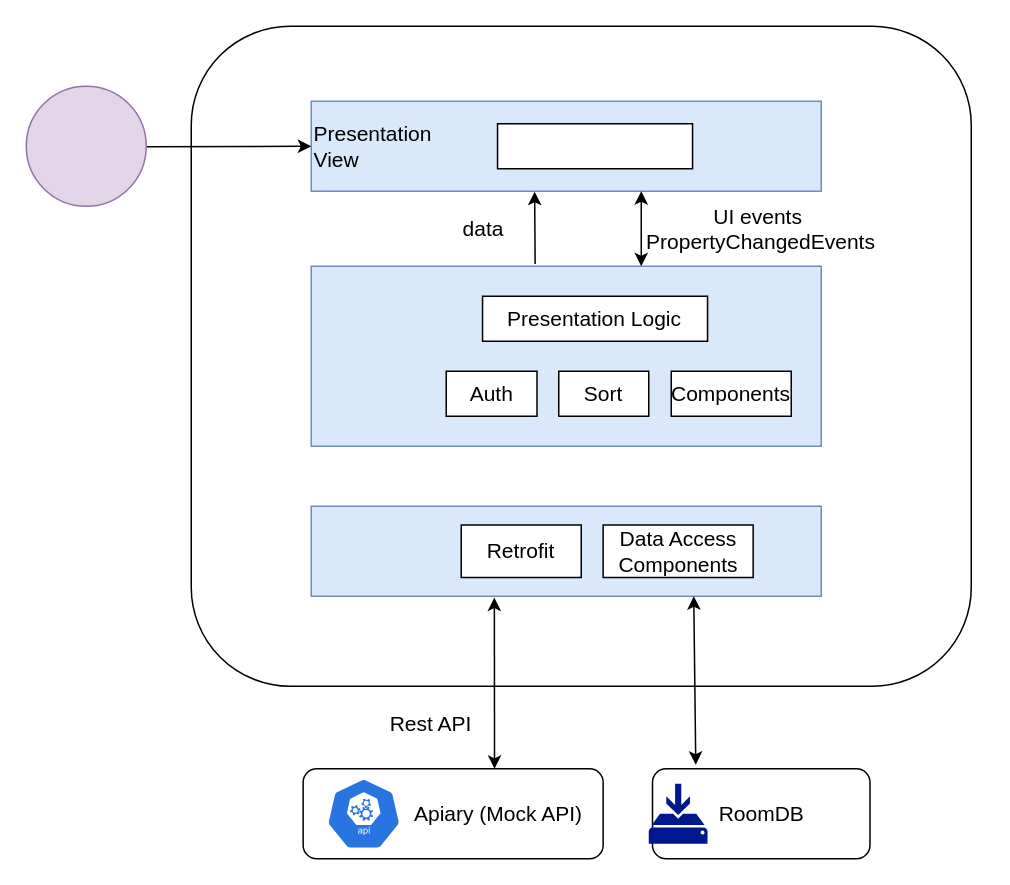
The diagram is 1010 pixels wide and 885 high, and some of its shapes have lost their labels. Each missing label, with the box of its shape:
Business Layer ViewModel: (310, 265, 821, 446)
Data Layer: (310, 505, 821, 596)
UI / View: (496, 122, 693, 169)
User: (25, 85, 146, 206)
